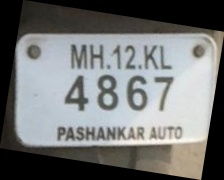character: (64, 74, 88, 111), (125, 74, 147, 111), (96, 74, 117, 111), (153, 75, 175, 110), (69, 43, 87, 70), (88, 42, 104, 70), (143, 44, 159, 69), (159, 44, 172, 70), (123, 45, 136, 69), (112, 44, 121, 69), (65, 127, 75, 141), (84, 126, 94, 140), (56, 126, 65, 141), (135, 125, 144, 140), (106, 127, 116, 140), (116, 126, 125, 140), (126, 126, 135, 140), (148, 126, 157, 140), (157, 125, 166, 139), (173, 126, 182, 140), (95, 127, 104, 140), (75, 126, 83, 140), (166, 125, 174, 138)
